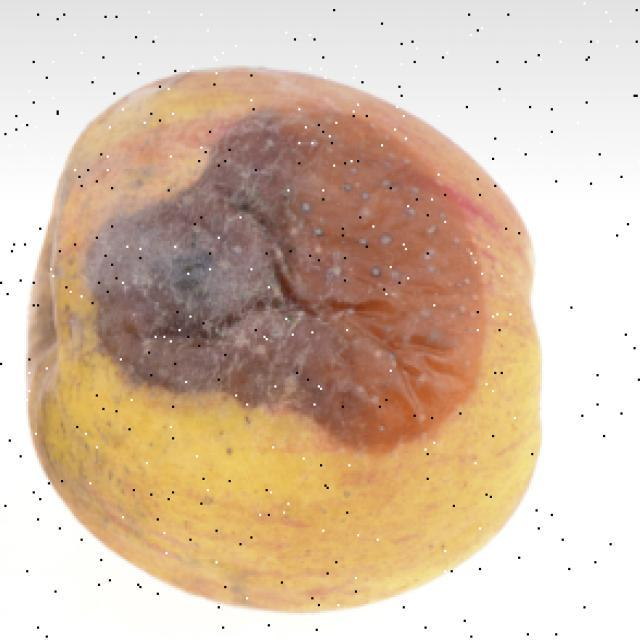Rotten: (52, 68, 553, 607)
